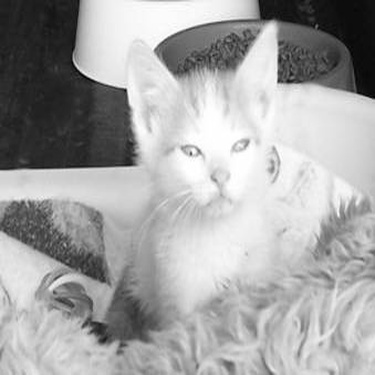cat: (55, 29, 365, 342)
